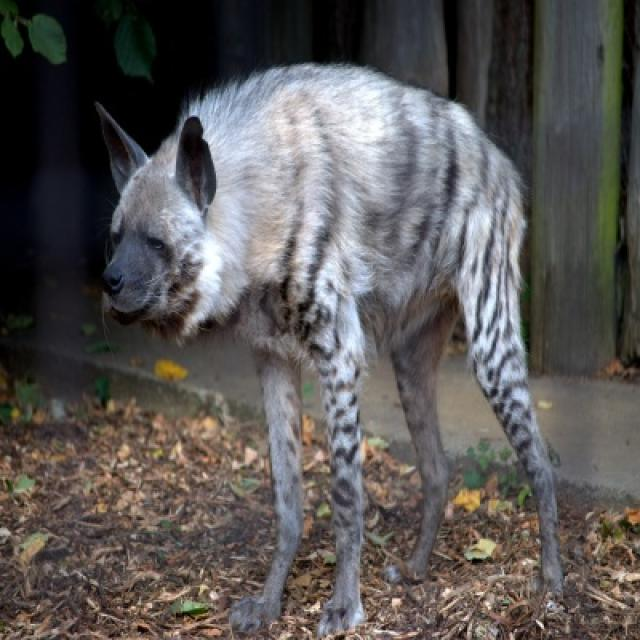hyena: (96, 64, 565, 638)
